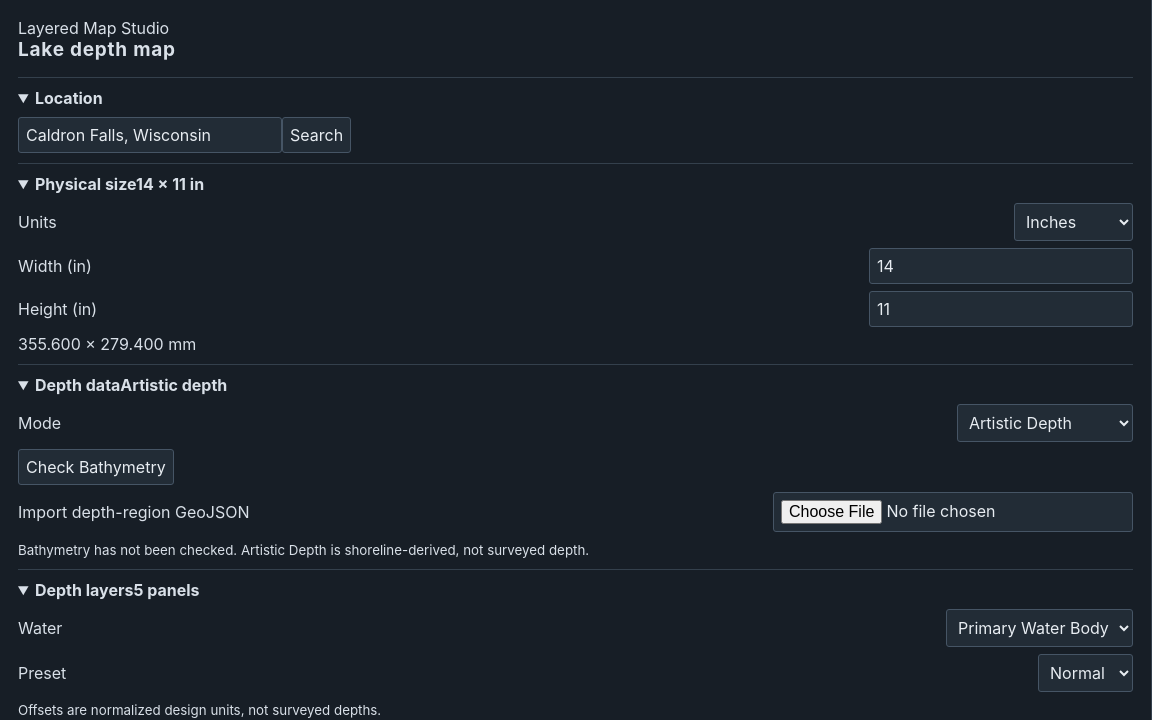
Test case: Depth data: Check Bathymetry › a lake outside Wisconsin and Michigan: no measured source, and no agency is asked
The image size is (1152, 720).
Click the button "Check Bathymetry" at [96, 467], box [18,449,174,485]
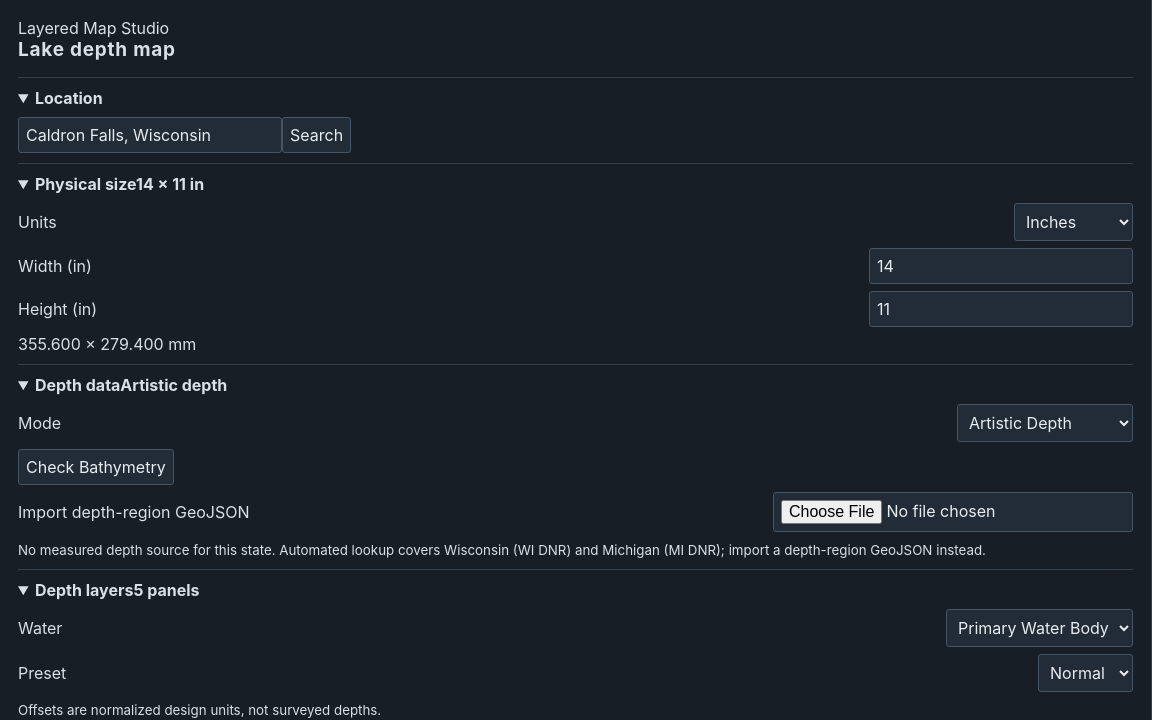
expect the text with class "notice" shows "No measured depth source for this state": met, box [18,542,986,558]
